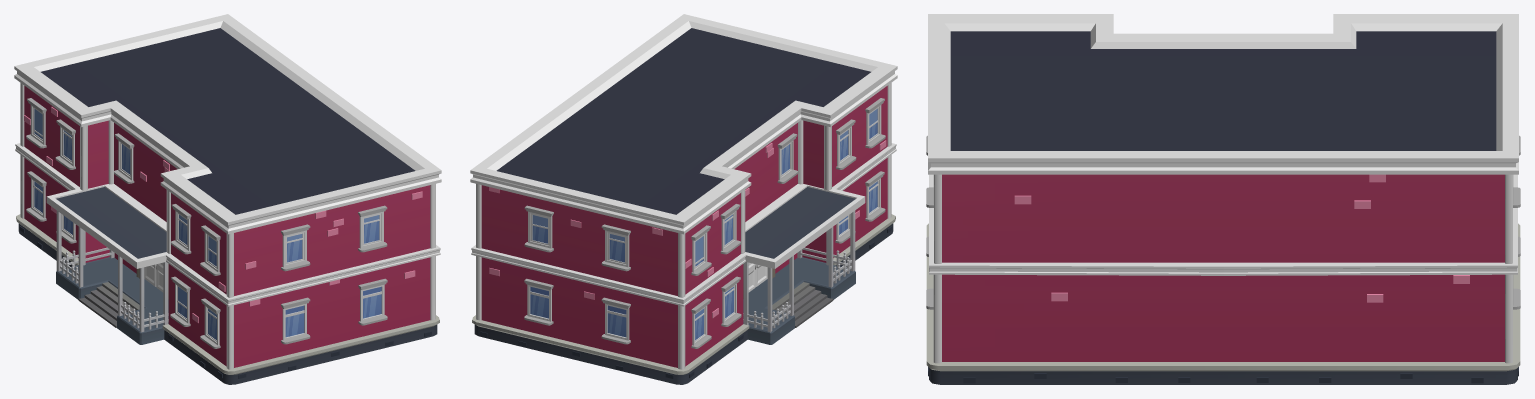
The model's file is Building_5_1_E.fbx.
3 views of the same model, side by side, from view 1: azimuth 30°, elevation 25°; view 2: azimuth 150°, elevation 25°; view 3: azimuth 270°, elevation 25° (orthographic). The views are drawn at different scales.
Parts seen in each view (by area): view 1: Building_5_1_E; view 2: Building_5_1_E; view 3: Building_5_1_E.
Part boxes in pixels (box(x1,y1,x2,y2)): Building_5_1_E: box(14, 14, 441, 384); Building_5_1_E: box(470, 14, 897, 384); Building_5_1_E: box(926, 14, 1520, 384).
Bounding box in the file's own units: 1251 × 804 × 1908.
